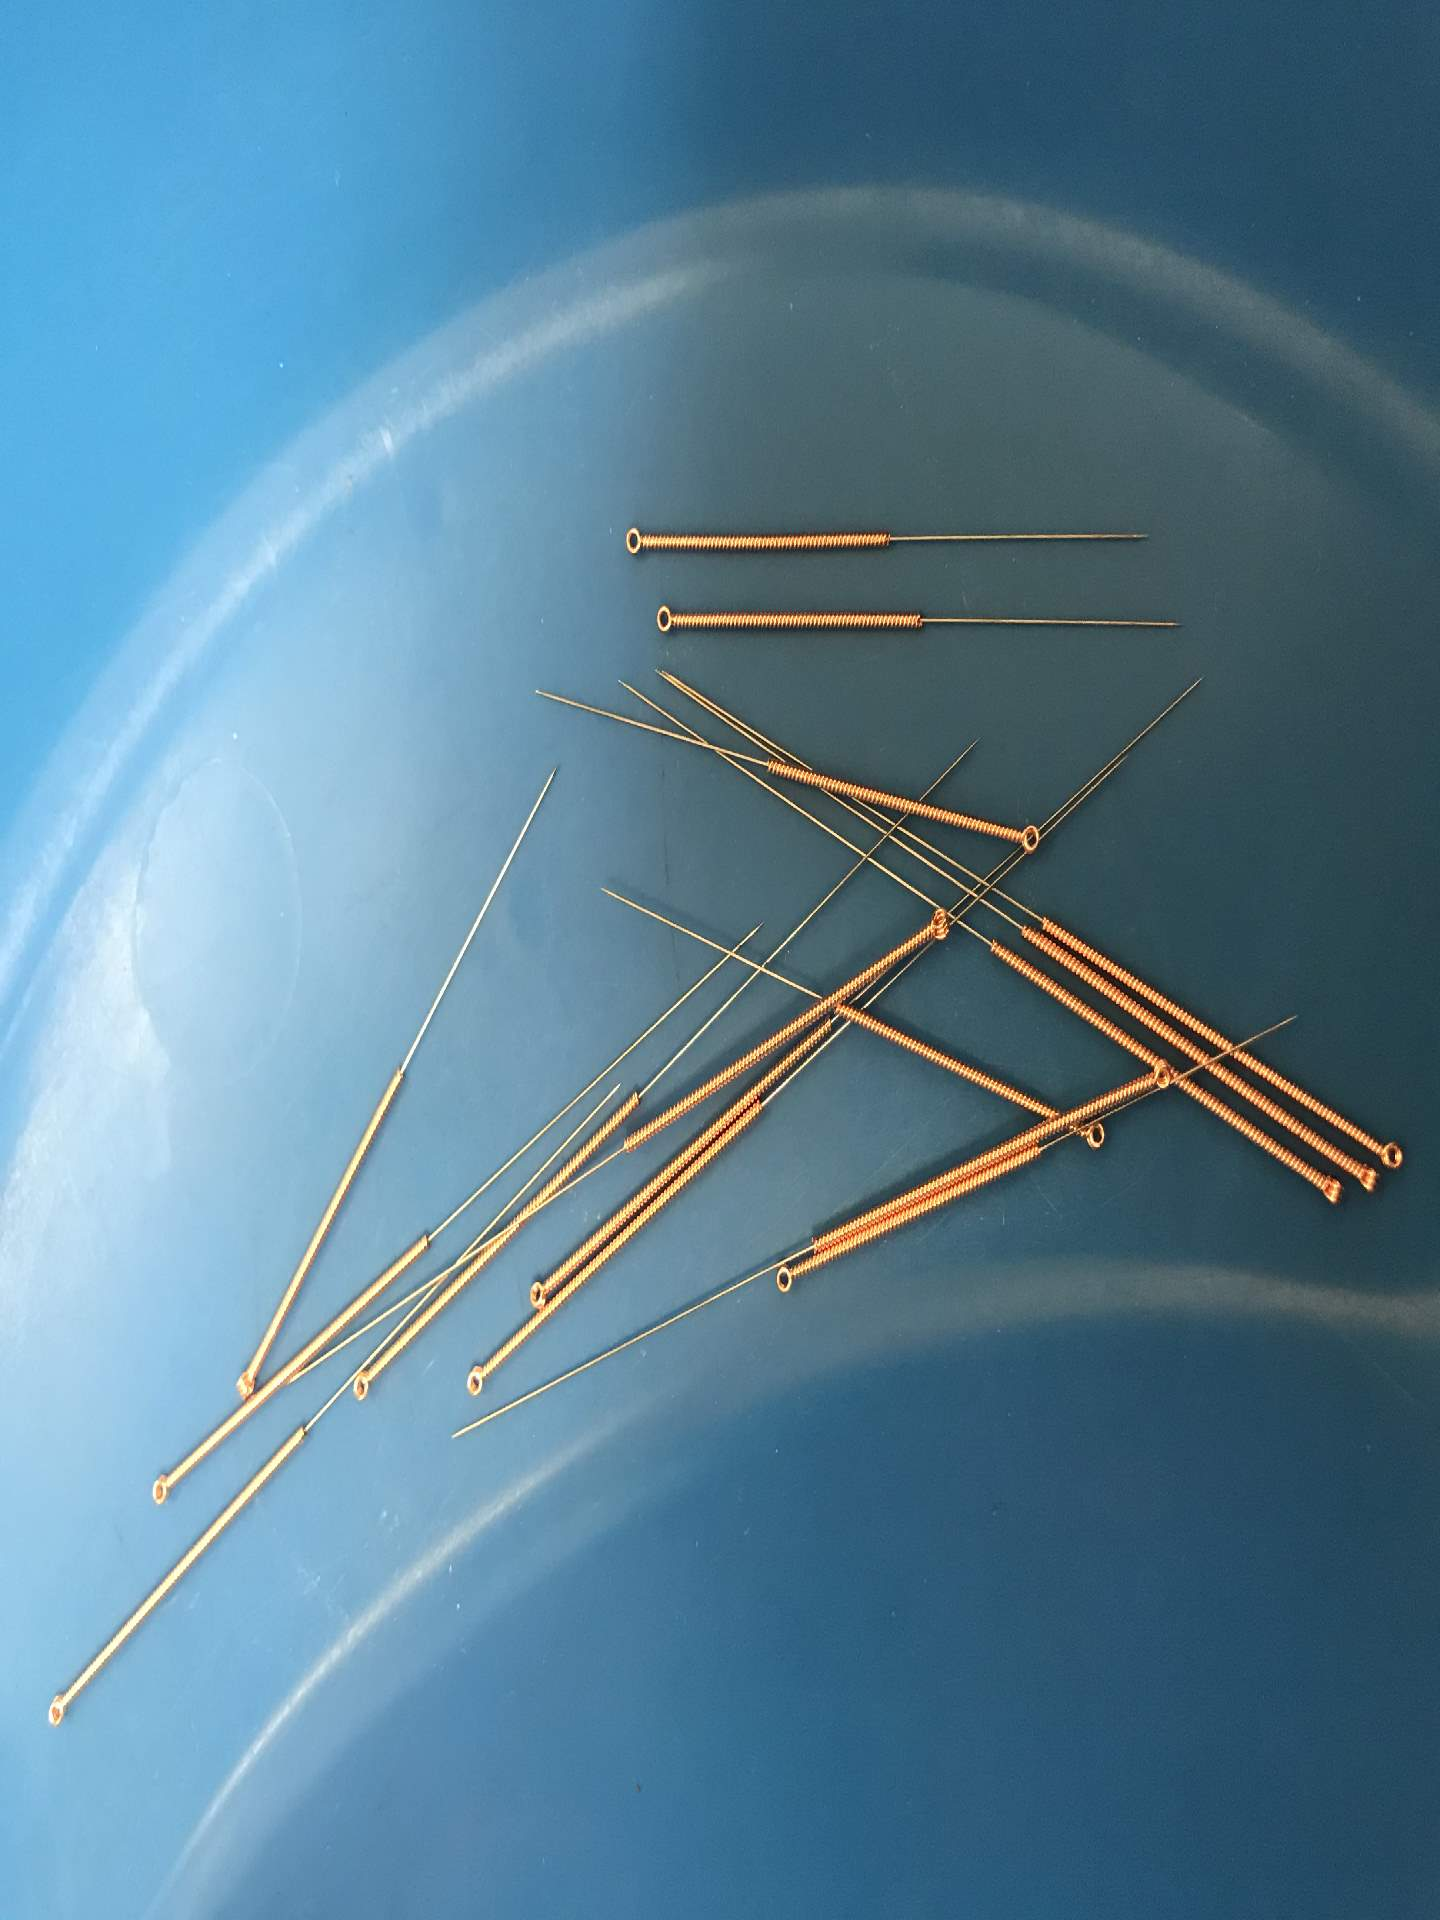needle: (610, 514, 659, 565), (33, 1681, 79, 1737), (765, 1252, 811, 1305), (138, 1460, 180, 1516), (641, 597, 690, 644), (228, 1347, 265, 1406), (1001, 816, 1047, 862), (343, 1361, 384, 1411), (455, 1355, 495, 1403), (1304, 1169, 1346, 1212), (1369, 1131, 1411, 1175), (520, 1265, 557, 1314), (914, 904, 953, 946), (1349, 1160, 1387, 1203), (1142, 1054, 1175, 1101), (1072, 1116, 1110, 1154)
